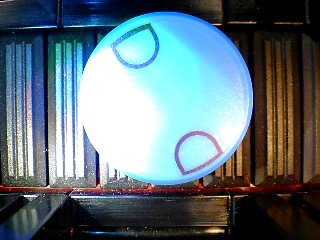MIPO2: (78, 11, 253, 185)
